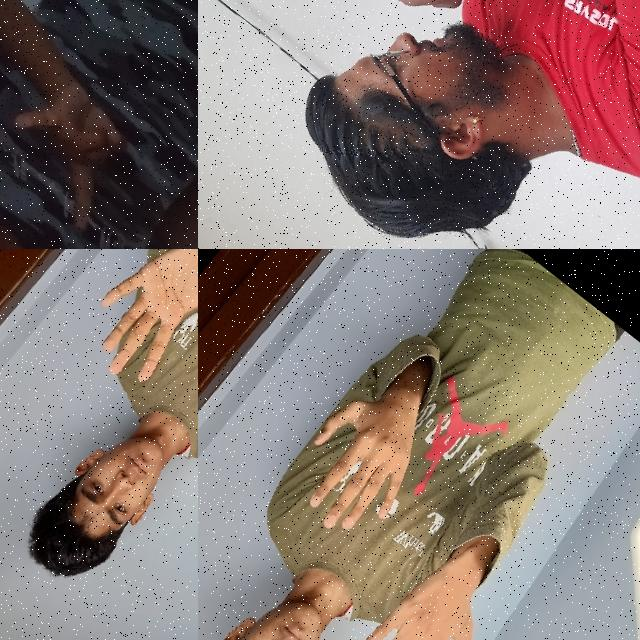Corna: (0, 43, 176, 247)
Fist Mouth: (232, 0, 620, 249)
Moutza: (266, 362, 456, 558), (58, 249, 198, 424), (312, 539, 522, 640)
